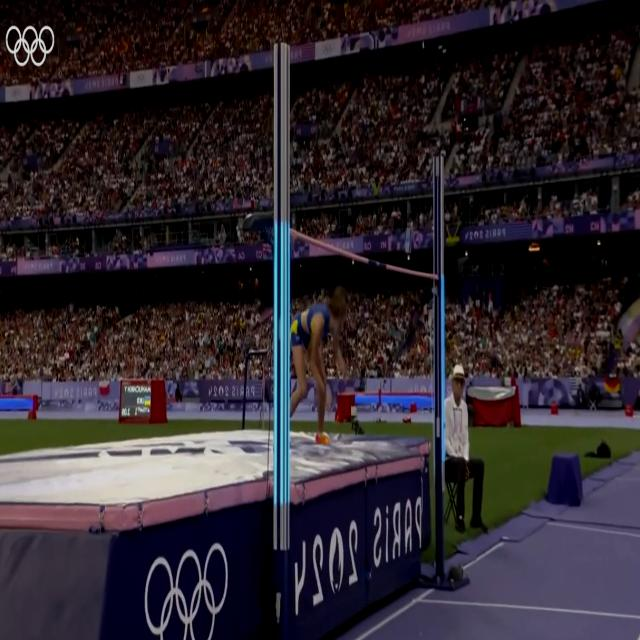land: (290, 284, 347, 446)
